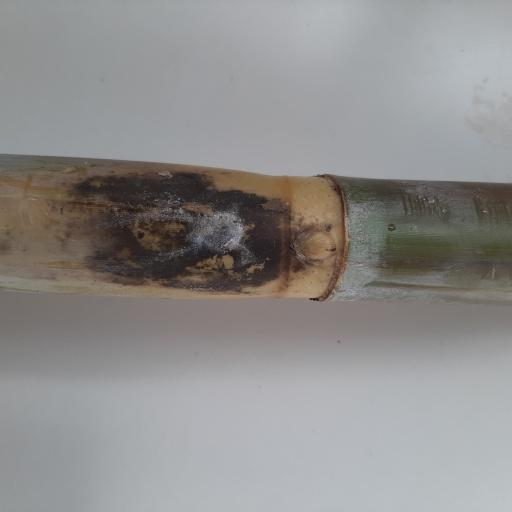Bud: (295, 226, 338, 264)
